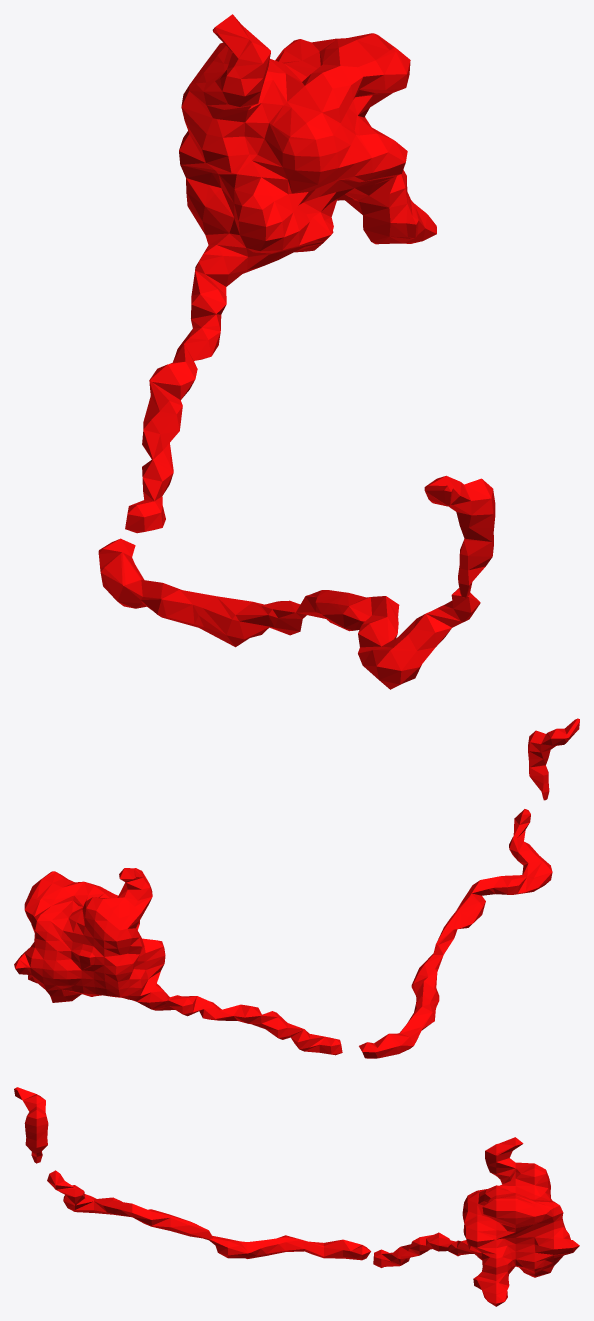
The model's file is dauA_coarse.dae.
3 renders of one model, top to bottom at view 1: azimuth 30°, elevation 25°; view 2: azimuth 150°, elevation 25°; view 3: azimuth 270°, elevation 25°, orthographic. The views are drawn at different scales.
Visible parts, largest first — view 1: dauA; view 2: dauA; view 3: dauA.
Boxes of the visible parts, x1,y1,x2,y2 form: dauA: (98, 14, 495, 689); dauA: (14, 718, 579, 1058); dauA: (14, 1087, 579, 1306).
Size of the model in its own units: 147 by 109 by 293.
